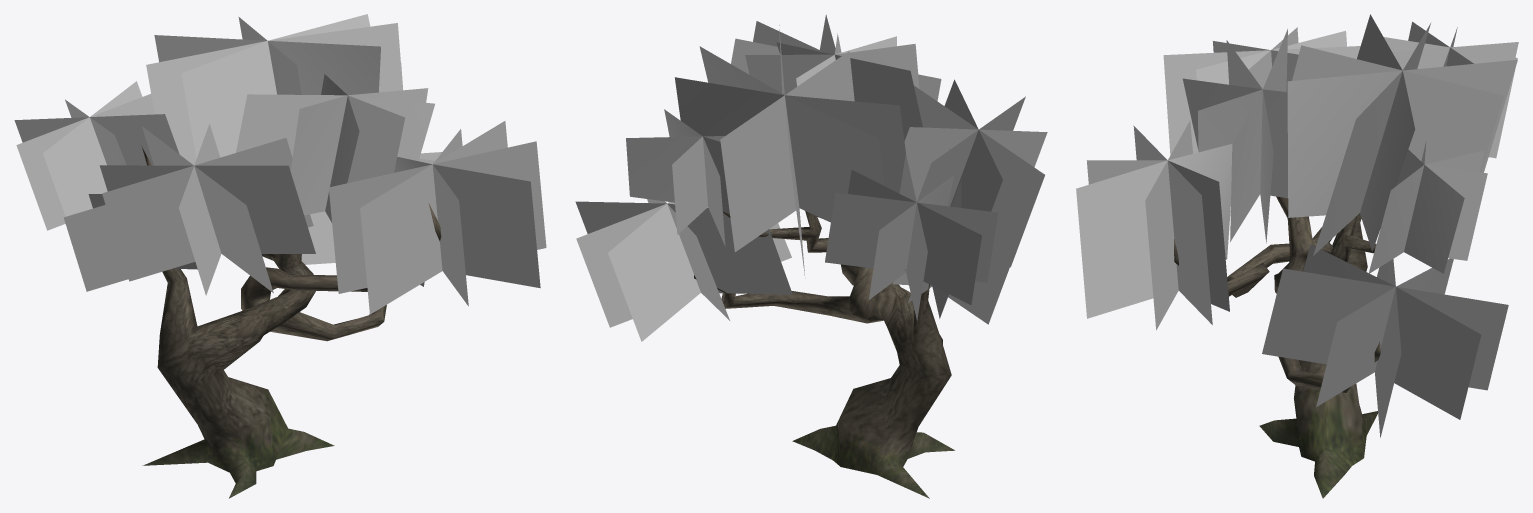
File: pine_02.fbx
The picture shows the model from 3 angles, left to right: view 1: azimuth 30°, elevation 25°; view 2: azimuth 150°, elevation 25°; view 3: azimuth 270°, elevation 25°; orthographic projection. The views are drawn at different scales.
Visible parts, largest first — view 1: polySurface793; view 2: polySurface793; view 3: polySurface793.
Boxes of the visible parts, left/top/right/bottom form: polySurface793: left=14, top=14, right=546, bottom=498; polySurface793: left=575, top=14, right=1047, bottom=498; polySurface793: left=1076, top=14, right=1518, bottom=498.
Bounding box in the file's own units: 6.16 × 5.43 × 5.03.
